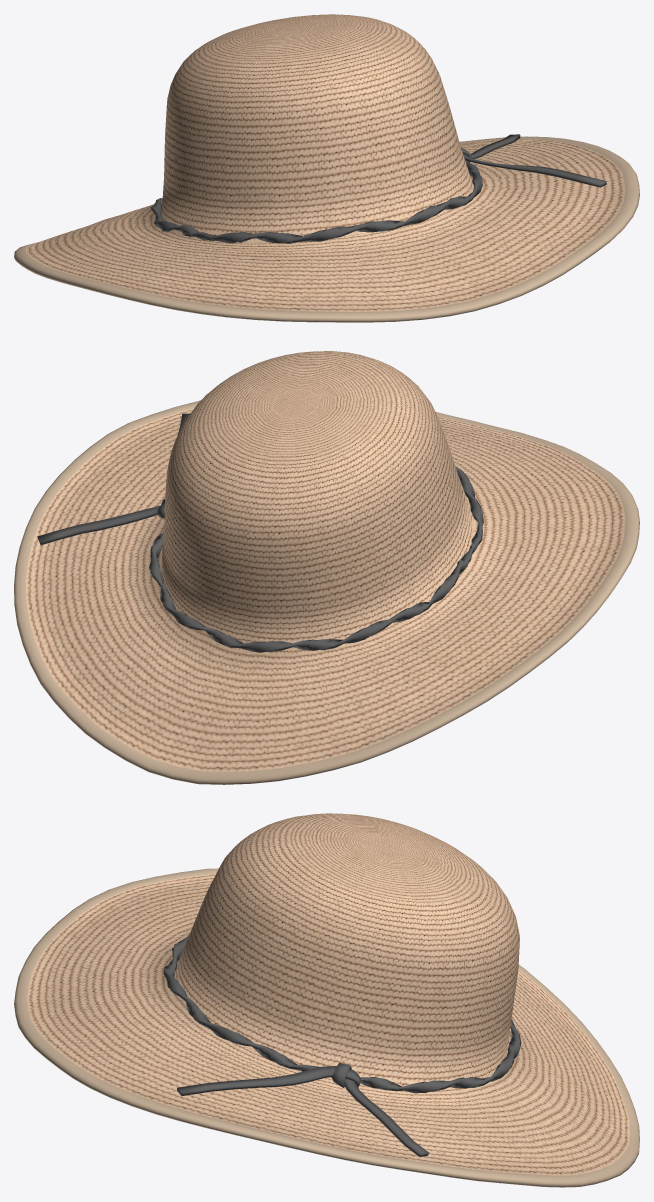
Rendered from desert sun 1.FBX.
The picture shows the model from 3 angles, top to bottom: view 1: azimuth 30°, elevation 25°; view 2: azimuth 150°, elevation 25°; view 3: azimuth 270°, elevation 25°; orthographic projection. The views are drawn at different scales.
Parts seen in each view (by area): view 1: hats_desertSun_hats_natural, hats_desertSun_tape_natural; view 2: hats_desertSun_hats_natural, hats_desertSun_tape_natural; view 3: hats_desertSun_hats_natural, hats_desertSun_tape_natural.
Boxes of the visible parts, left/top/right/bottom form: hats_desertSun_hats_natural: left=14, top=14, right=639, bottom=322; hats_desertSun_tape_natural: left=151, top=134, right=606, bottom=243; hats_desertSun_hats_natural: left=14, top=351, right=639, bottom=784; hats_desertSun_tape_natural: left=37, top=413, right=483, bottom=652; hats_desertSun_hats_natural: left=14, top=813, right=639, bottom=1187; hats_desertSun_tape_natural: left=163, top=935, right=521, bottom=1156.
Bounding box in the file's own units: 37.16 × 19.46 × 36.08.
